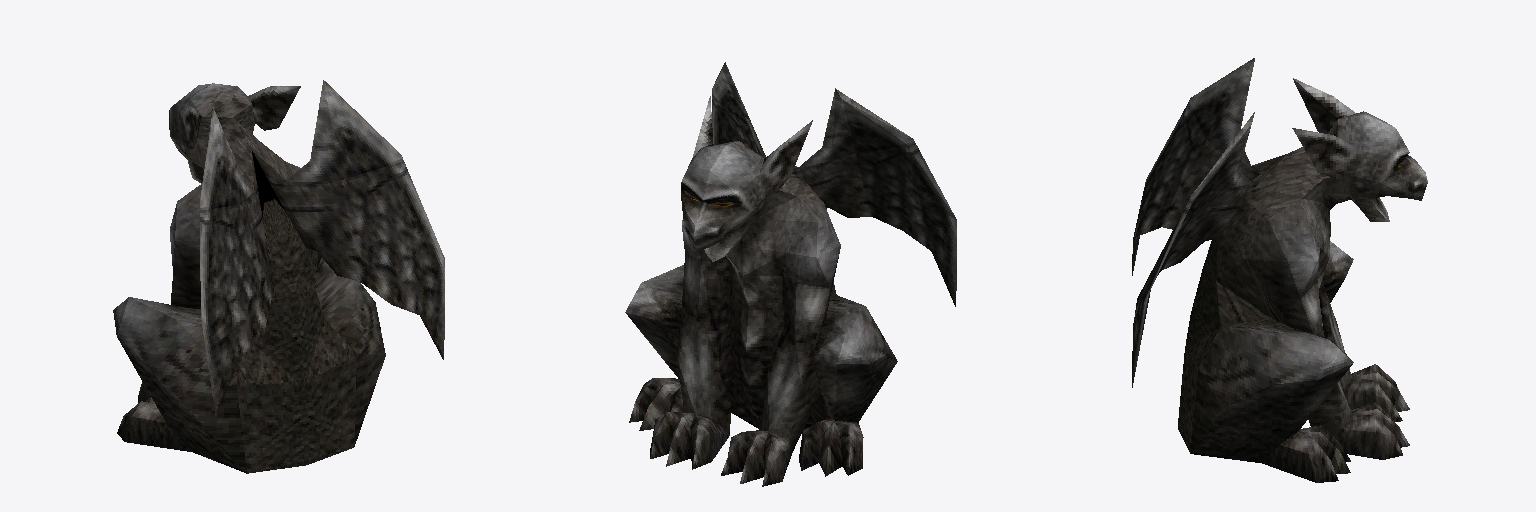
3 renders of one model, left to right at view 1: azimuth 30°, elevation 25°; view 2: azimuth 150°, elevation 25°; view 3: azimuth 270°, elevation 25°, orthographic.
Visible parts, largest first — view 1: material_0; view 2: material_0; view 3: material_0.
Part boxes in pixels (left/top/right/bottom): material_0: left=113, top=80, right=444, bottom=473; material_0: left=625, top=62, right=956, bottom=486; material_0: left=1132, top=58, right=1427, bottom=482.
Bounding box in the file's own units: 94.91 × 128 × 99.83.
1 materials, 1 textured.